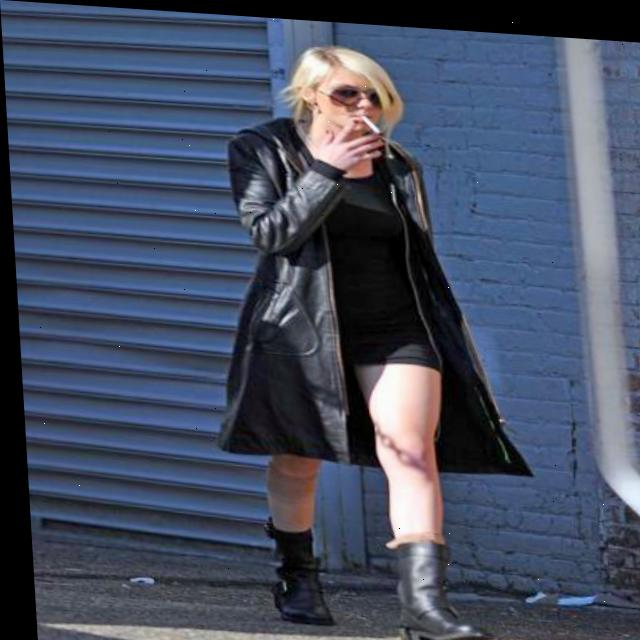cigarette: (359, 112, 381, 131)
